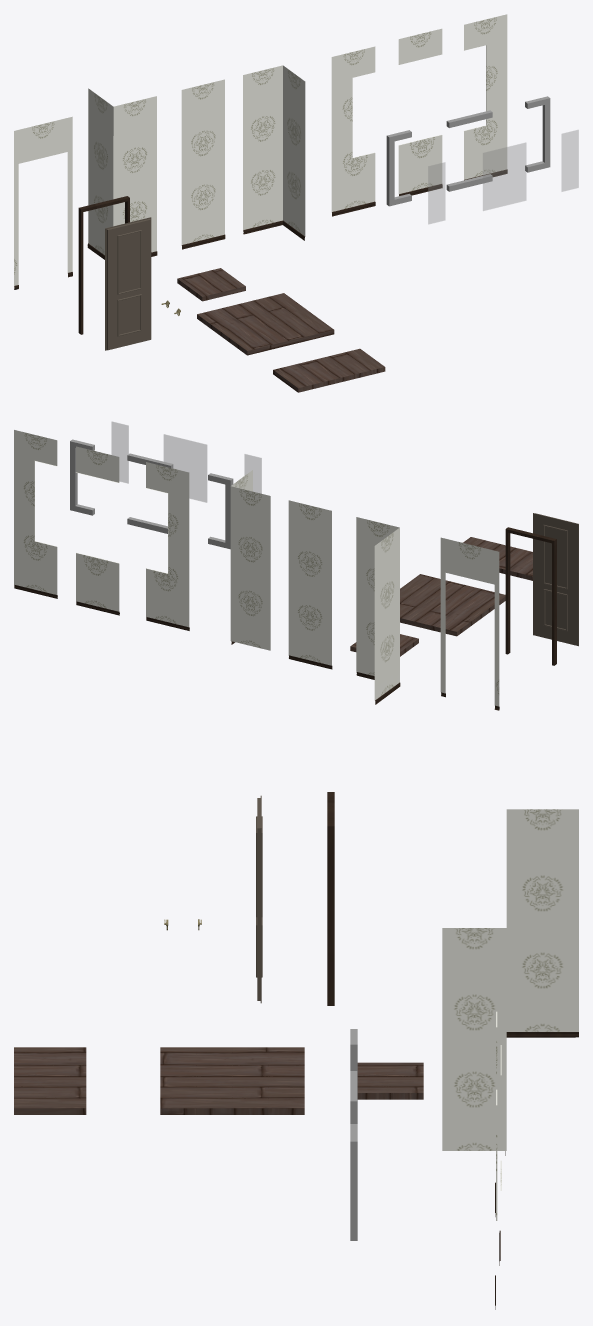
The model's file is House_Modules.fbx.
The picture shows the model from 3 angles, top to bottom: view 1: azimuth 30°, elevation 25°; view 2: azimuth 150°, elevation 25°; view 3: azimuth 270°, elevation 25°; orthographic projection. The views are drawn at different scales.
Visible parts, largest first — view 1: Wall_Edge2, Wall_Edge, Wall, Door, Wall_WindowL, Wall_WindowR, Floor2, Wall_WindowM, Wall_Door, Floor3, Window_Cristal1, Floor (+6 smaller); view 2: Wall_Edge, Wall, Wall_Edge2, Wall_WindowL, Wall_WindowR, Door, Floor2, Wall_Door, Wall_WindowM, Window_Cristal1, Door_Frame, Floor3 (+5 smaller); view 3: Wall_Edge, Wall_Edge2, Floor2, Floor3, Floor, Door_Frame, Door, Window_Frame3.
Part boxes in pixels (x1,y1,x2,y2): Wall_Edge2: [243, 65, 305, 240]; Wall_Edge: [87, 88, 157, 259]; Wall: [181, 79, 225, 249]; Door: [105, 217, 151, 350]; Wall_WindowL: [331, 46, 375, 216]; Wall_WindowR: [464, 14, 507, 180]; Floor2: [197, 293, 334, 355]; Wall_WindowM: [398, 28, 442, 195]; Wall_Door: [14, 116, 72, 289]; Floor3: [273, 348, 385, 392]; Window_Cristal1: [483, 142, 526, 210]; Floor: [177, 268, 245, 301]; Wall_Edge: [356, 517, 400, 704]; Wall: [288, 500, 332, 669]; Wall_Edge2: [230, 470, 270, 650]; Wall_WindowL: [146, 462, 189, 630]; Wall_WindowR: [14, 430, 57, 598]; Door: [533, 513, 578, 646]; Floor2: [400, 574, 505, 636]; Wall_Door: [440, 537, 499, 710]; Wall_WindowM: [76, 446, 119, 615]; Window_Cristal1: [164, 434, 206, 502]; Door_Frame: [505, 527, 556, 665]; Floor3: [463, 537, 532, 580]; Wall_Edge: [506, 809, 578, 1037]; Wall_Edge2: [442, 928, 506, 1155]; Floor2: [160, 1047, 304, 1114]; Floor3: [14, 1047, 86, 1114]; Floor: [357, 1062, 423, 1099]; Door_Frame: [327, 792, 334, 1005]; Door: [256, 795, 262, 1003]; Window_Frame3: [350, 1126, 357, 1240].
Bounding box in the file's own units: 11.26 × 3.6 × 7.83.
